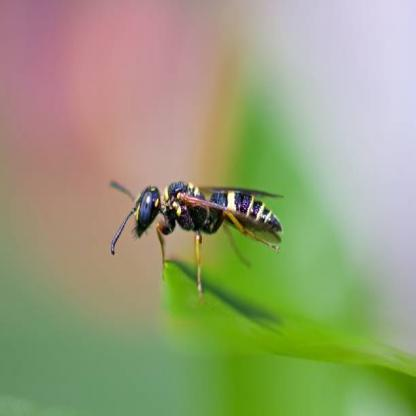sawfly: (105, 165, 287, 297)
